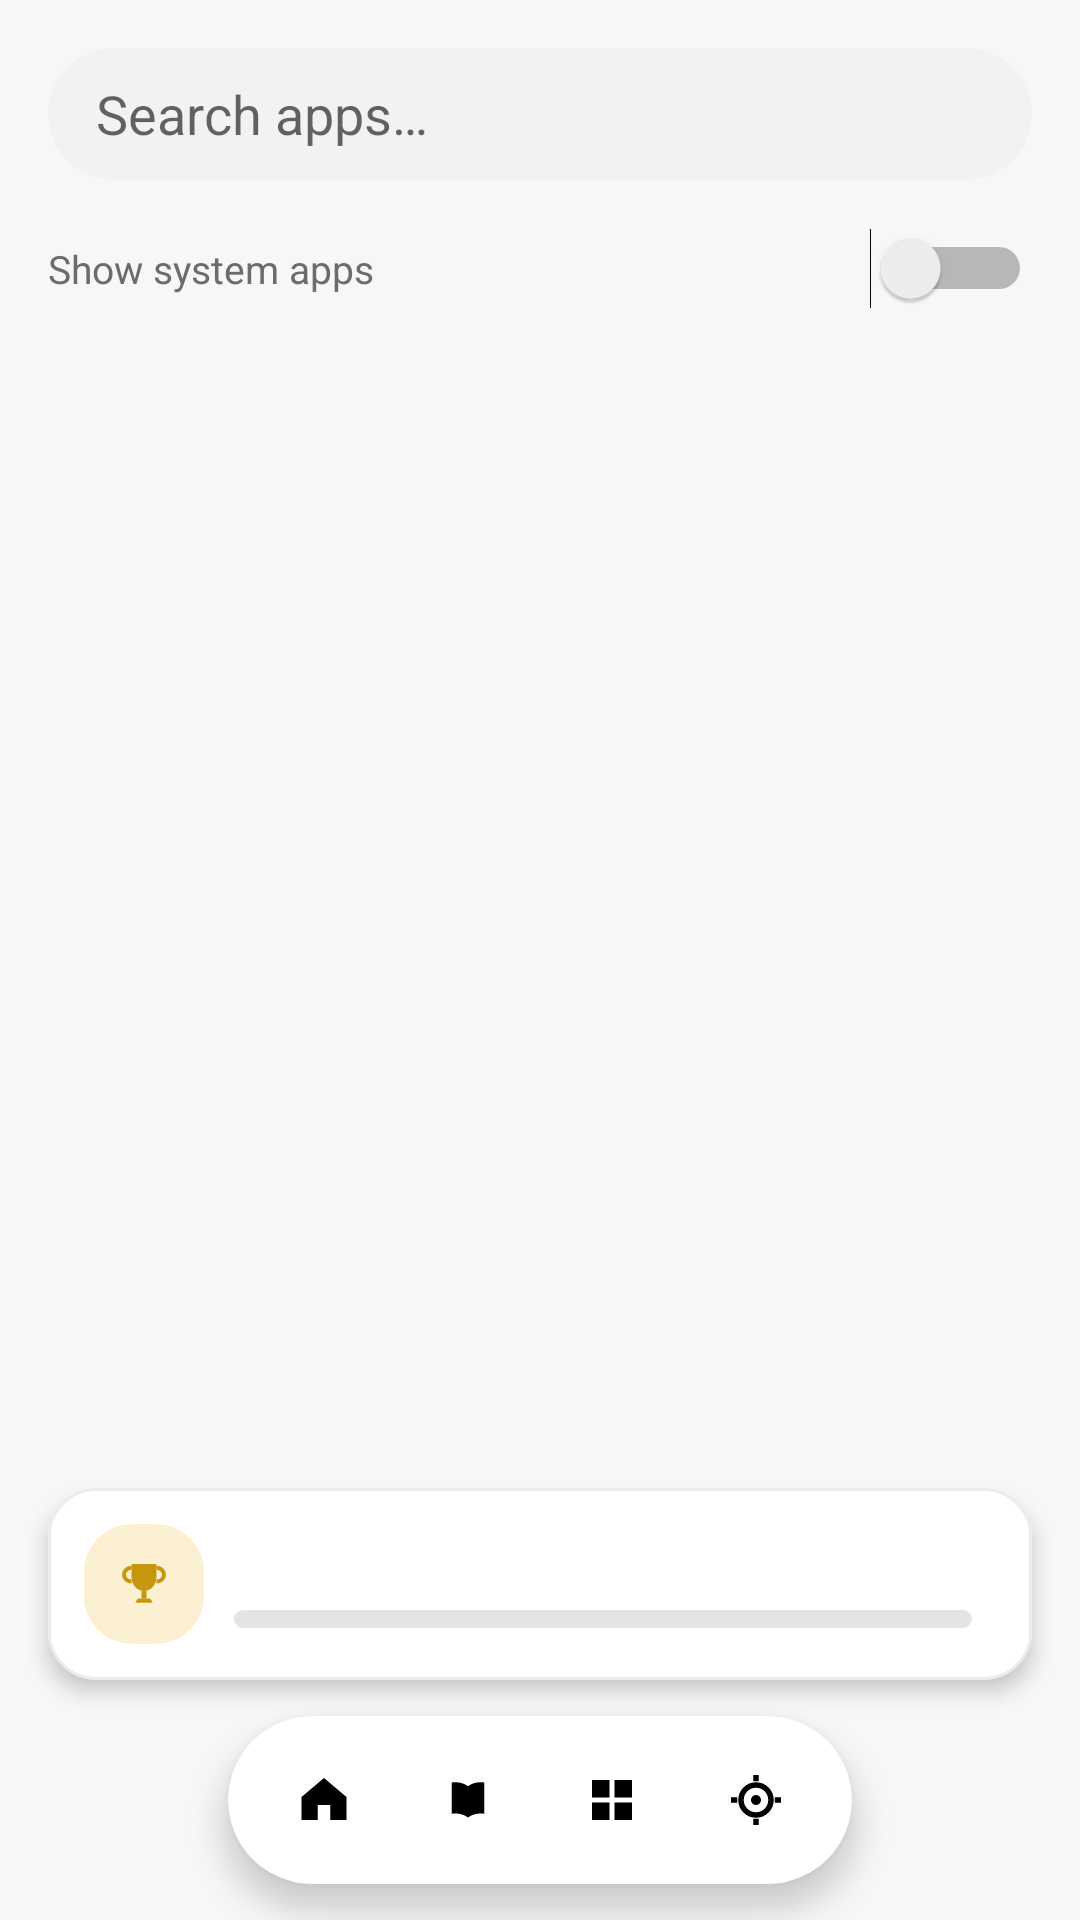

Icon bounding boxes for this 1080 × 1920 phone screenshot, format (x1, y1, x2, y2):
book: (451, 1782, 485, 1818)
grid: (592, 1780, 632, 1820)
home: (301, 1778, 347, 1820)
trophy: (122, 1564, 166, 1603)
